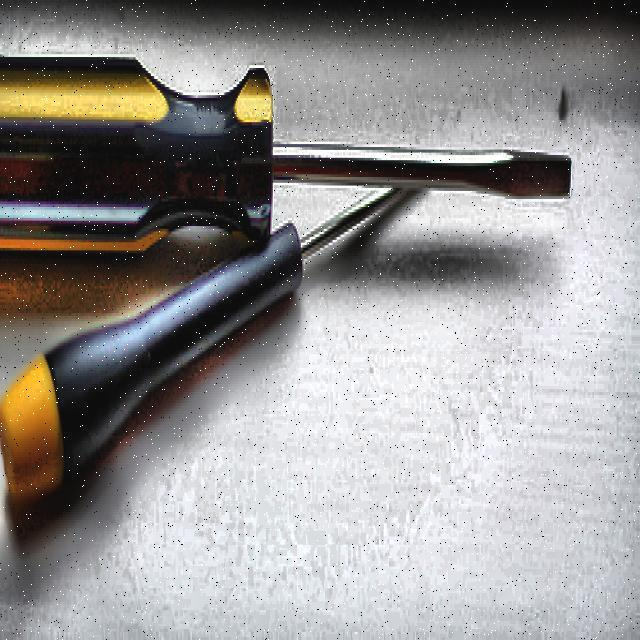screwdriver: (0, 58, 572, 264)
